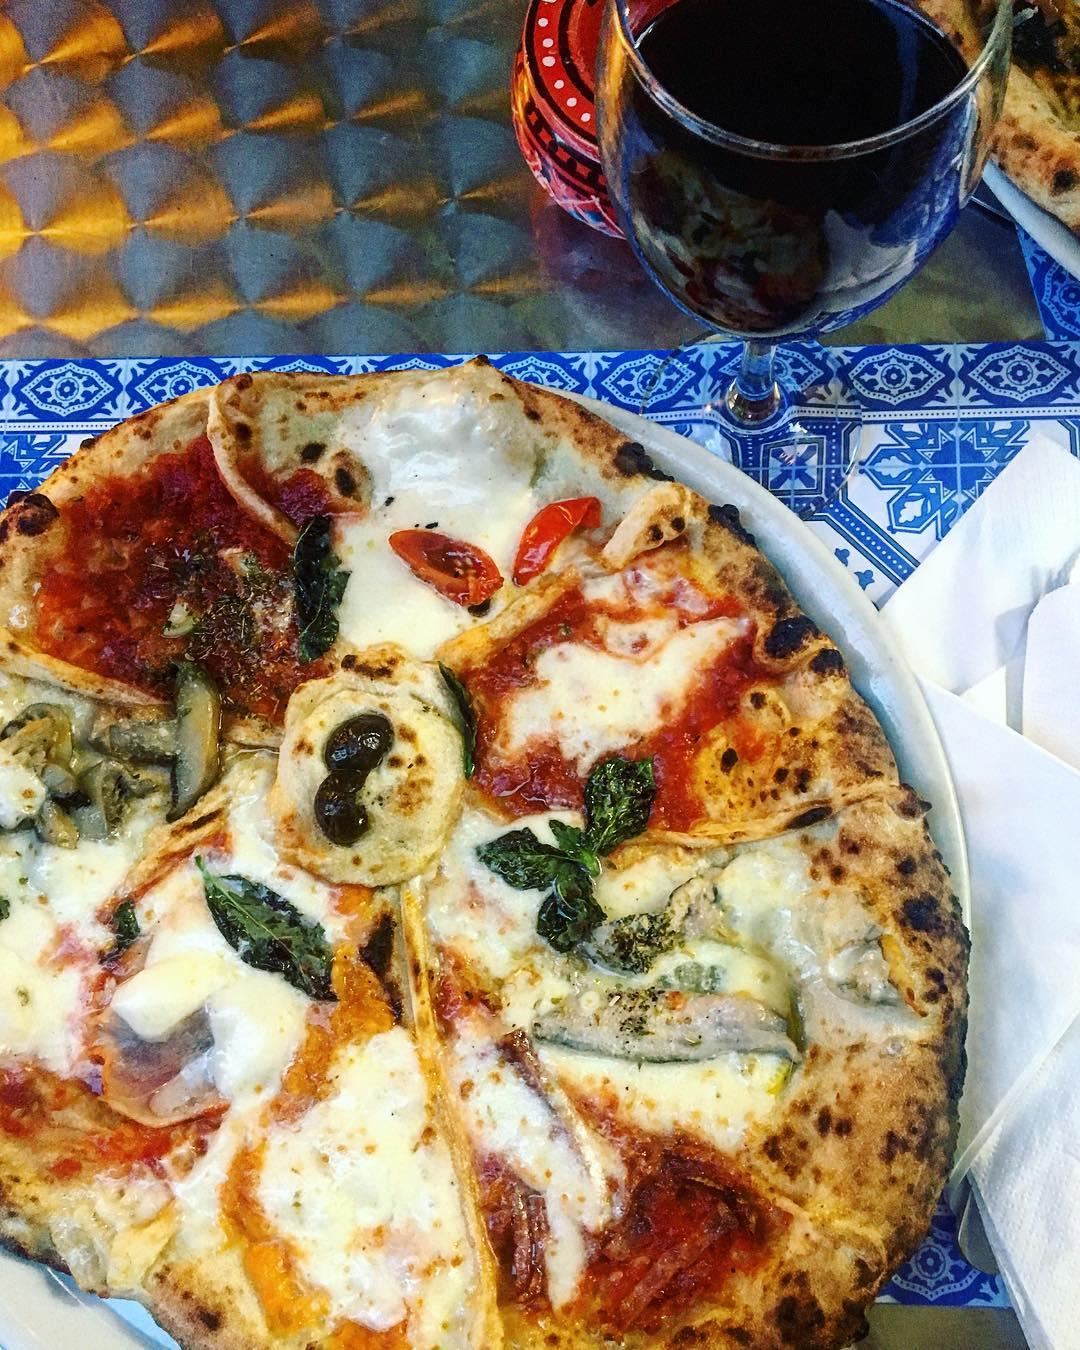Basil: (479, 757, 660, 957), (194, 858, 337, 1003), (288, 518, 346, 656)
Cheese: (0, 843, 125, 1070), (305, 1110, 449, 1274), (514, 640, 698, 744)
Mushroom: (99, 673, 225, 811)
Pizza: (0, 364, 973, 1350)
Tomatoes: (388, 525, 504, 611), (510, 493, 608, 588)
